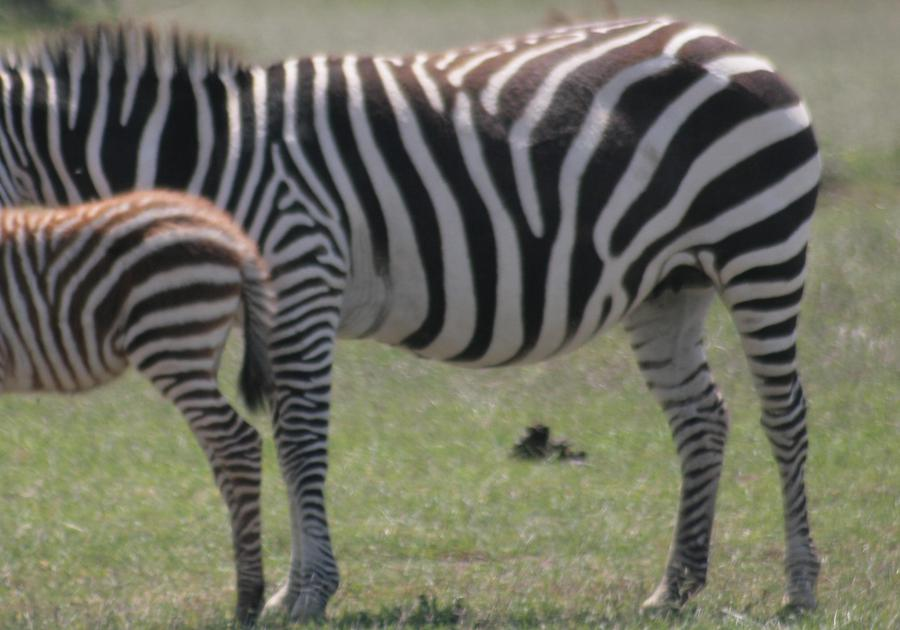zebra_plains: (208, 28, 833, 307)
